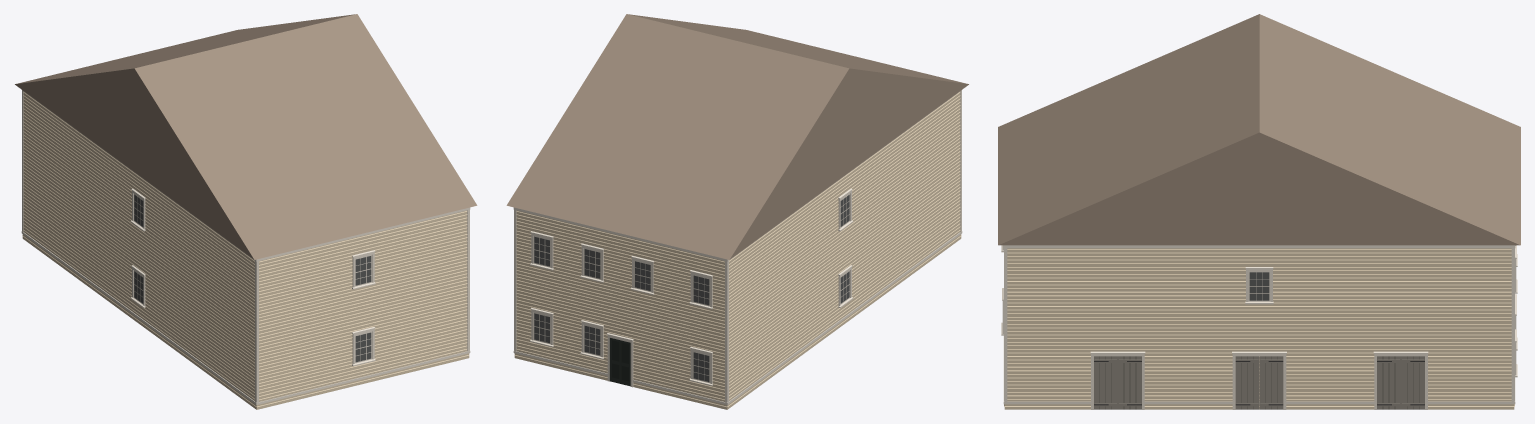
The model's file is recon_1835_south_branch_freight_f3_002__inferred_1835.glb.
The picture shows the model from 3 angles, left to right: view 1: azimuth 30°, elevation 25°; view 2: azimuth 150°, elevation 25°; view 3: azimuth 270°, elevation 25°; orthographic projection. The views are drawn at different scales.
Parts seen in each view (by area): view 1: recon_1835_south_branch_freight_f3_002__inferred_1835; view 2: recon_1835_south_branch_freight_f3_002__inferred_1835; view 3: recon_1835_south_branch_freight_f3_002__inferred_1835.
Part boxes in pixels (left/top/right/bottom): recon_1835_south_branch_freight_f3_002__inferred_1835: left=15, top=14, right=477, bottom=409; recon_1835_south_branch_freight_f3_002__inferred_1835: left=506, top=14, right=968, bottom=409; recon_1835_south_branch_freight_f3_002__inferred_1835: left=998, top=14, right=1520, bottom=409.
Size of the model in its own units: 10.81 by 11.91 by 20.16.
